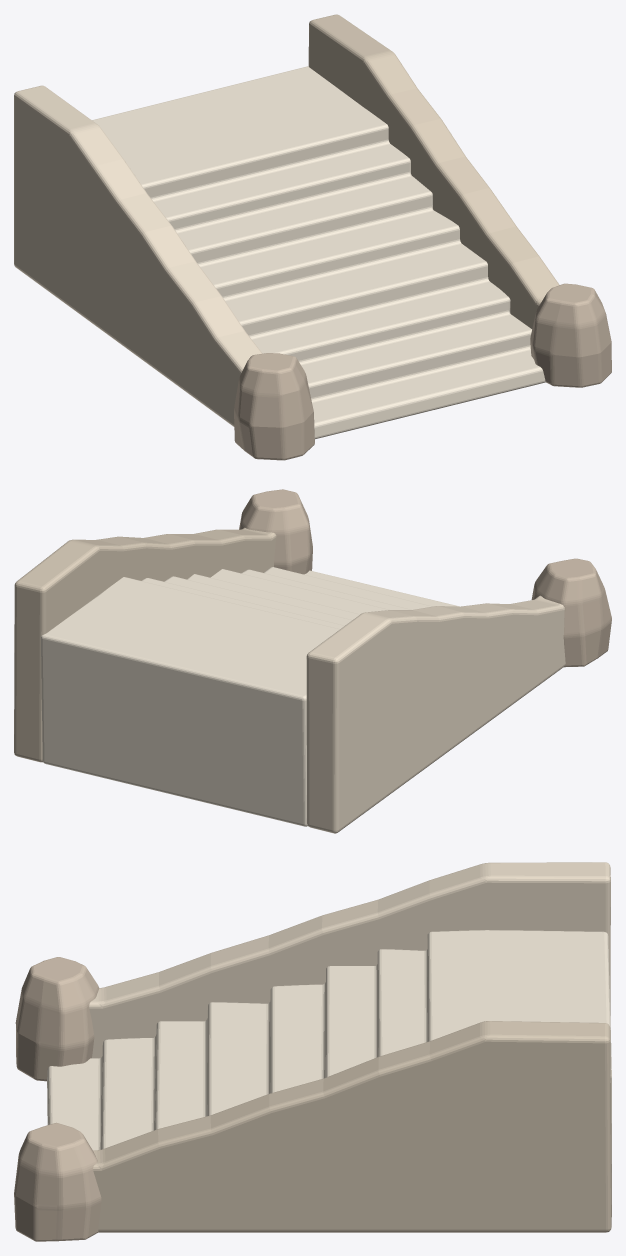
The model's file is KFB_TOWN_CASTLE_CLAY_STAIRS_R2.glb.
3 views of the same model, one above another, from view 1: azimuth 30°, elevation 25°; view 2: azimuth 150°, elevation 25°; view 3: azimuth 270°, elevation 25° (orthographic). The views are drawn at different scales.
Visible parts, largest first — view 1: KFB_ClayStair_Core, KFB_ClayStair_Wall_L, KFB_ClayStair_Wall_R, KFB_ClayStair_Buttress_L, KFB_ClayStair_Buttress_R; view 2: KFB_ClayStair_Core, KFB_ClayStair_Wall_L, KFB_ClayStair_Wall_R, KFB_ClayStair_Buttress_L, KFB_ClayStair_Buttress_R; view 3: KFB_ClayStair_Wall_R, KFB_ClayStair_Core, KFB_ClayStair_Wall_L, KFB_ClayStair_Buttress_R, KFB_ClayStair_Buttress_L.
Boxes of the visible parts, x1,y1,x2,y2 form: KFB_ClayStair_Core: [92, 66, 545, 439]; KFB_ClayStair_Wall_L: [14, 85, 262, 426]; KFB_ClayStair_Wall_R: [308, 14, 559, 328]; KFB_ClayStair_Buttress_L: [234, 353, 314, 460]; KFB_ClayStair_Buttress_R: [530, 283, 611, 387]; KFB_ClayStair_Core: [41, 567, 459, 826]; KFB_ClayStair_Wall_L: [306, 595, 565, 833]; KFB_ClayStair_Wall_R: [14, 527, 276, 762]; KFB_ClayStair_Buttress_L: [531, 558, 611, 667]; KFB_ClayStair_Buttress_R: [239, 489, 312, 574]; KFB_ClayStair_Wall_R: [93, 1021, 611, 1232]; KFB_ClayStair_Core: [47, 930, 611, 1204]; KFB_ClayStair_Wall_L: [89, 862, 610, 1058]; KFB_ClayStair_Buttress_R: [14, 1122, 101, 1241]; KFB_ClayStair_Buttress_L: [15, 957, 99, 1081].
Size of the model in its own units: 14.93 by 6.96 by 19.06.
